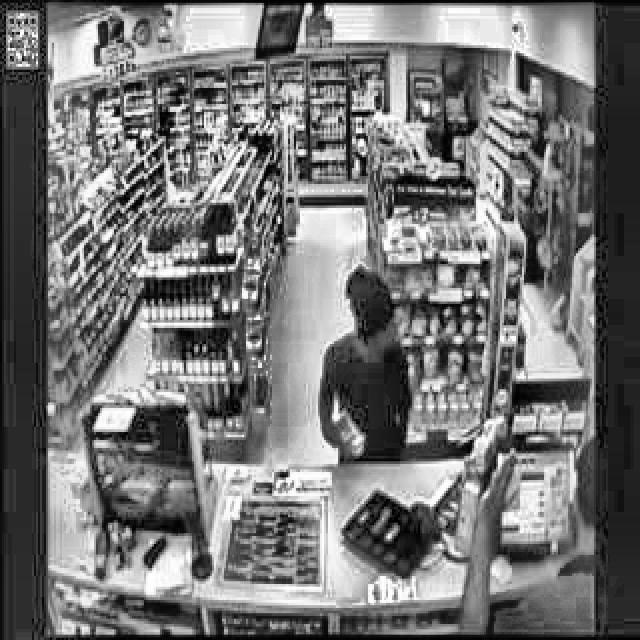robbery: (458, 435, 595, 632), (317, 263, 413, 465)
